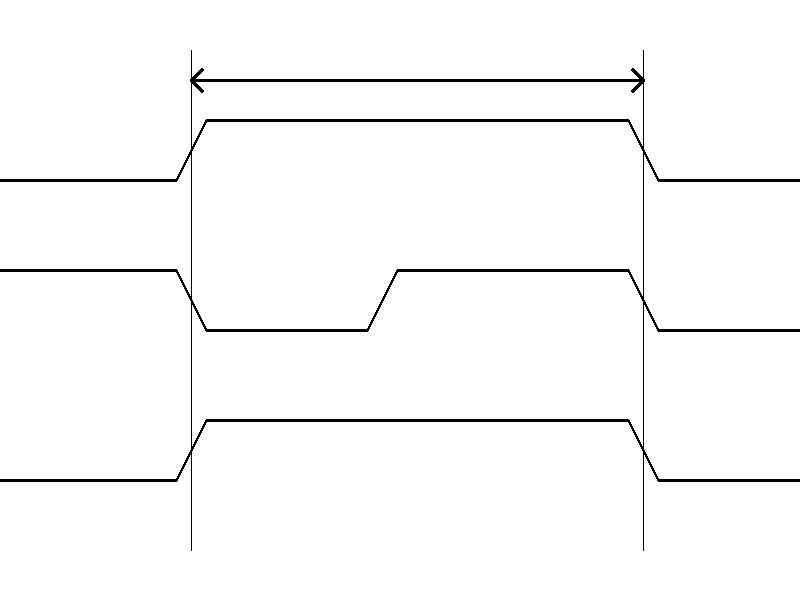double_arrow: (191, 65, 643, 95)
